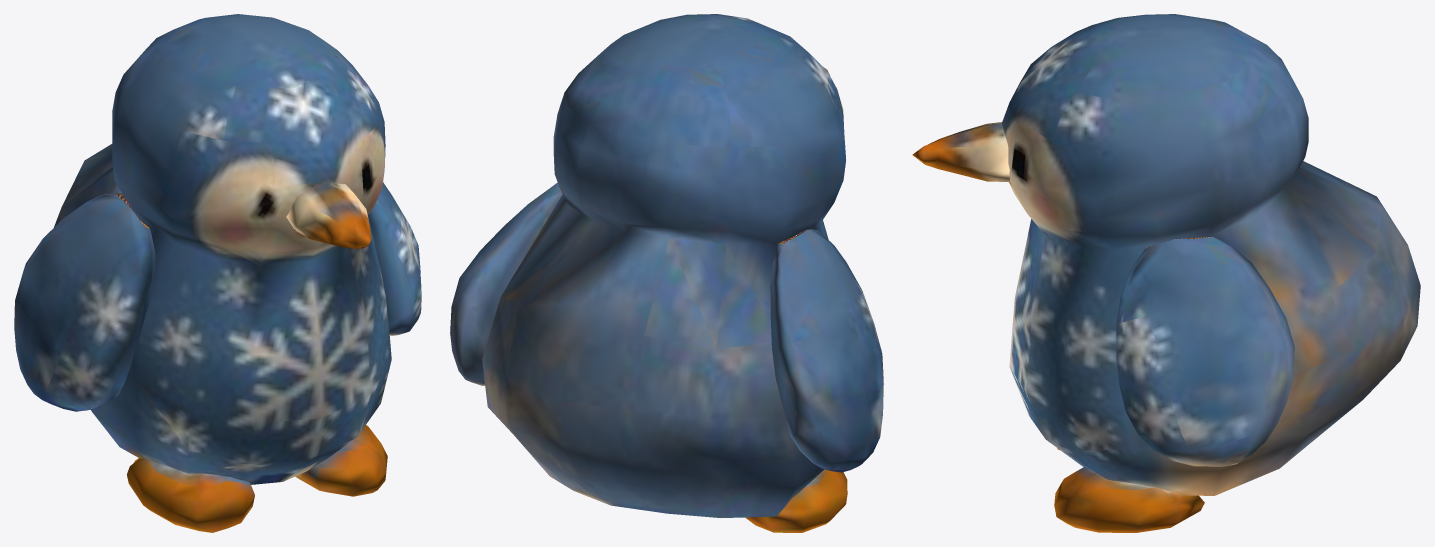
Rendered from penguin-01-43-snowflake.gltf.
3 renders of one model, left to right at view 1: azimuth 30°, elevation 25°; view 2: azimuth 150°, elevation 25°; view 3: azimuth 270°, elevation 25°, orthographic. The views are drawn at different scales.
Parts seen in each view (by area): view 1: penguin-01-43-snowflake; view 2: penguin-01-43-snowflake; view 3: penguin-01-43-snowflake.
Boxes of the visible parts, box(x1,y1,x2,y2) form: penguin-01-43-snowflake: box(14, 14, 421, 532); penguin-01-43-snowflake: box(450, 14, 883, 532); penguin-01-43-snowflake: box(912, 14, 1420, 532).
Size of the model in its own units: 0.2 by 0.2233 by 0.2267.
Materials: 1 (1 with a texture image).
